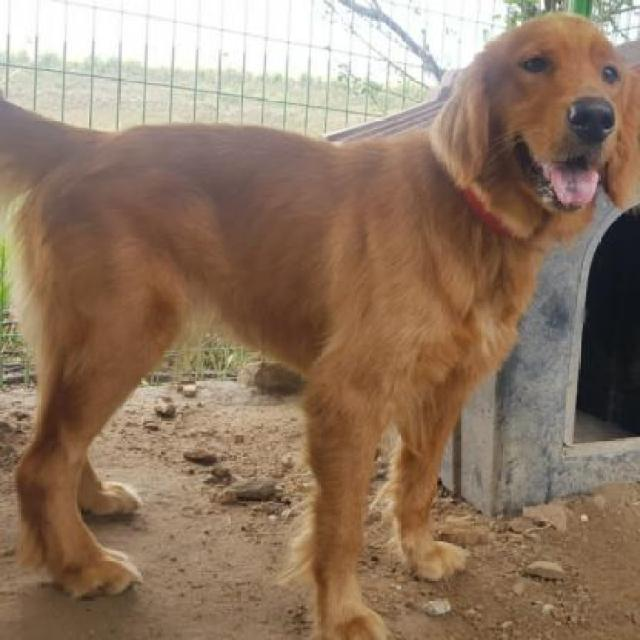Dog: (0, 10, 638, 638)
